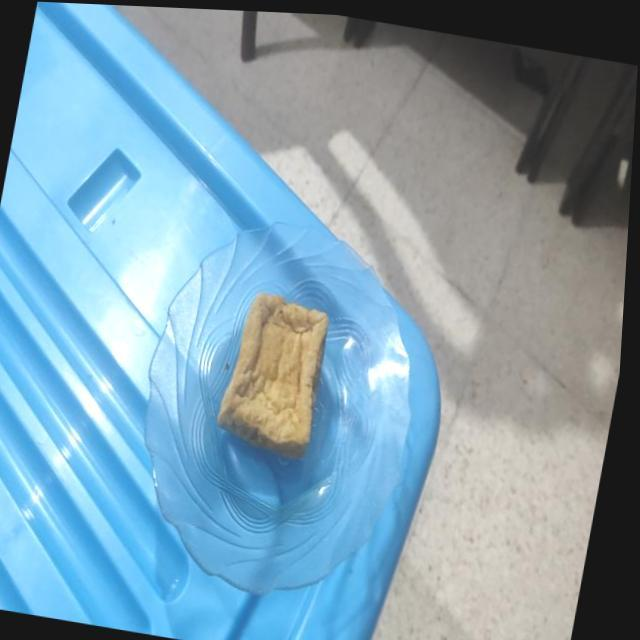tahu_goreng: (217, 292, 328, 458)
